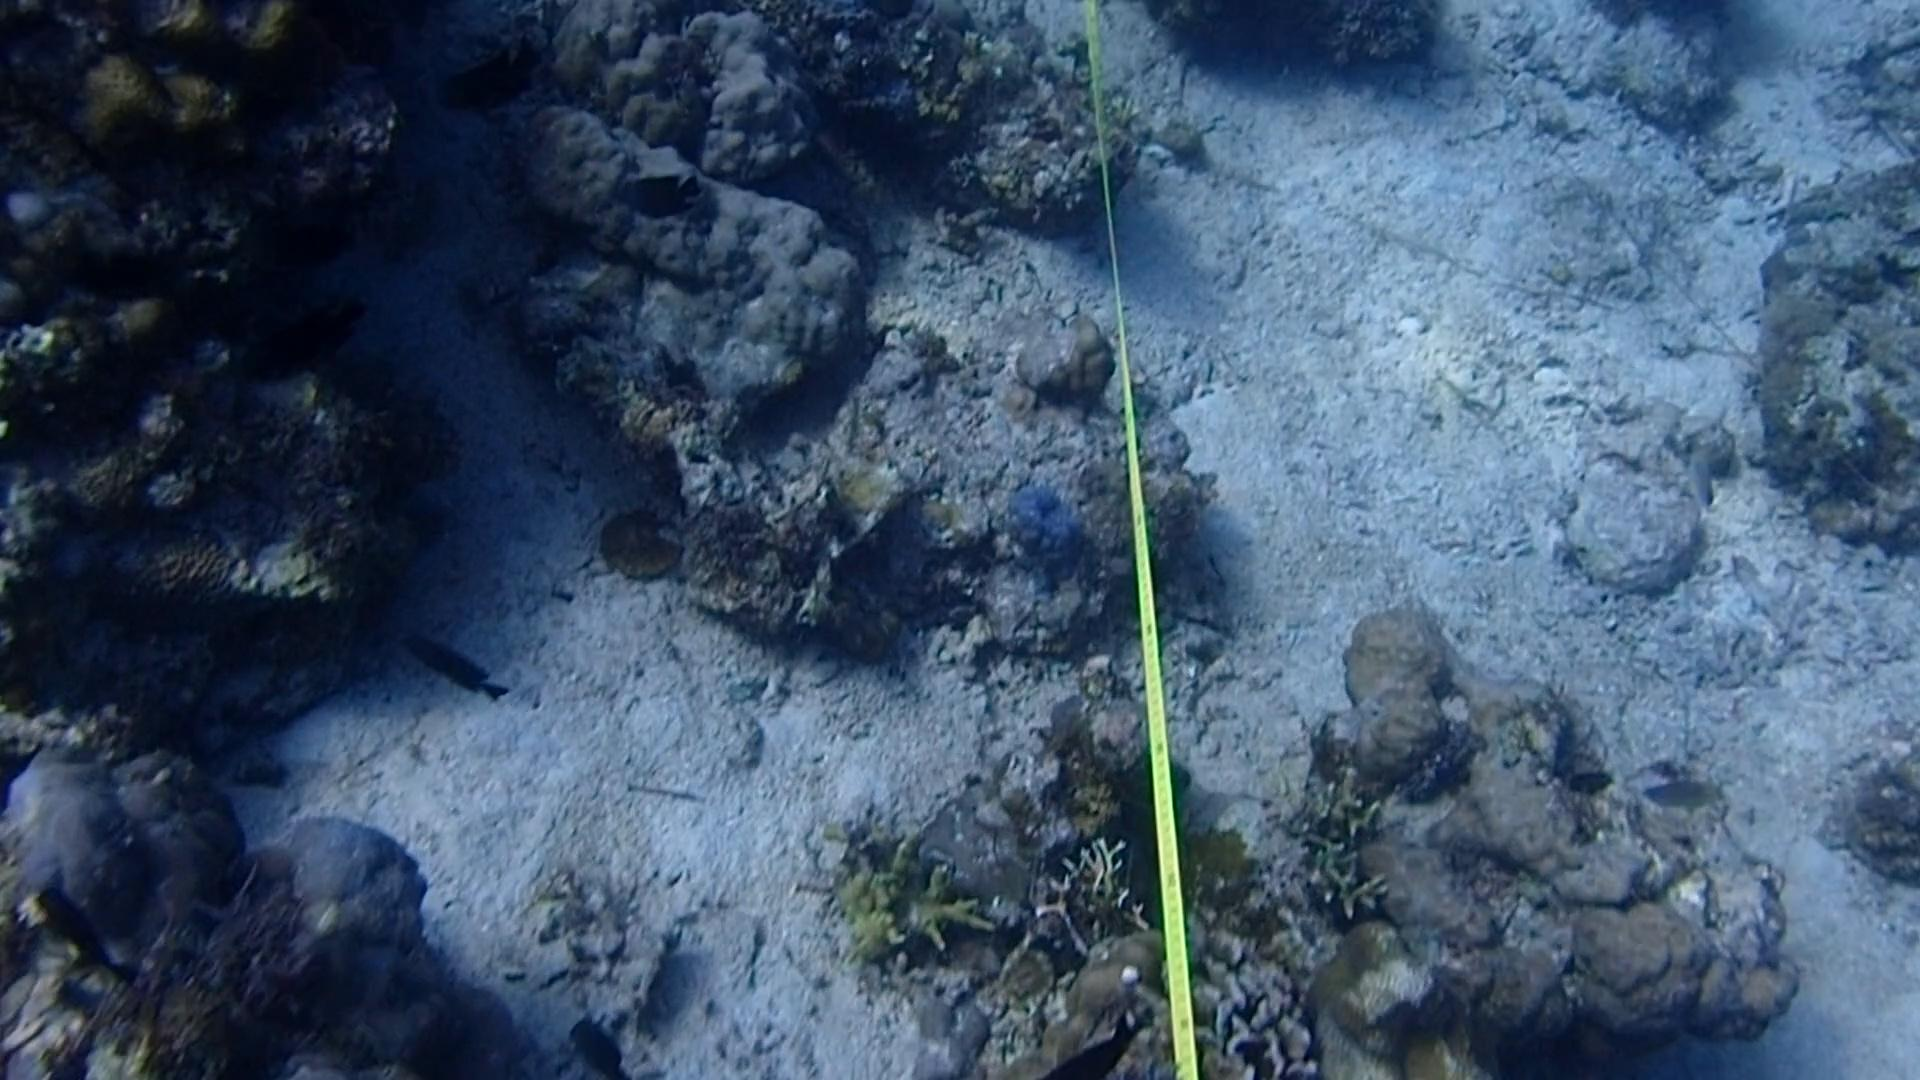Dark Fish: (206, 284, 372, 401), (388, 618, 514, 715), (426, 33, 543, 135), (25, 884, 129, 986), (1048, 1010, 1150, 1080), (553, 1001, 640, 1080), (621, 167, 702, 228)
Light Fish: (1673, 448, 1722, 512)
